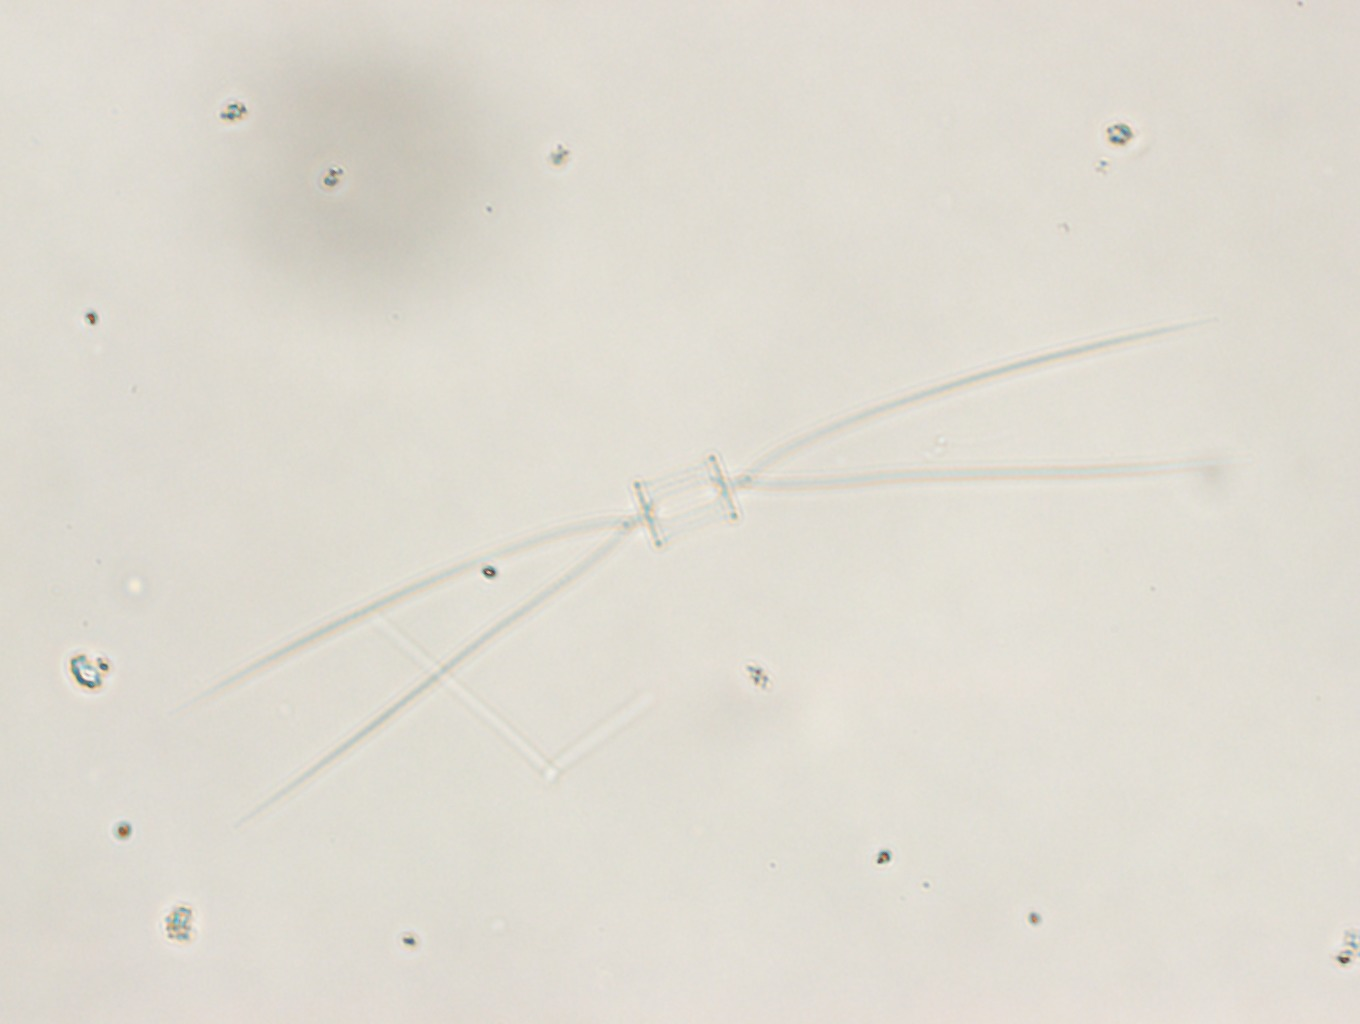chaetoceros: (207, 323, 1240, 830)
